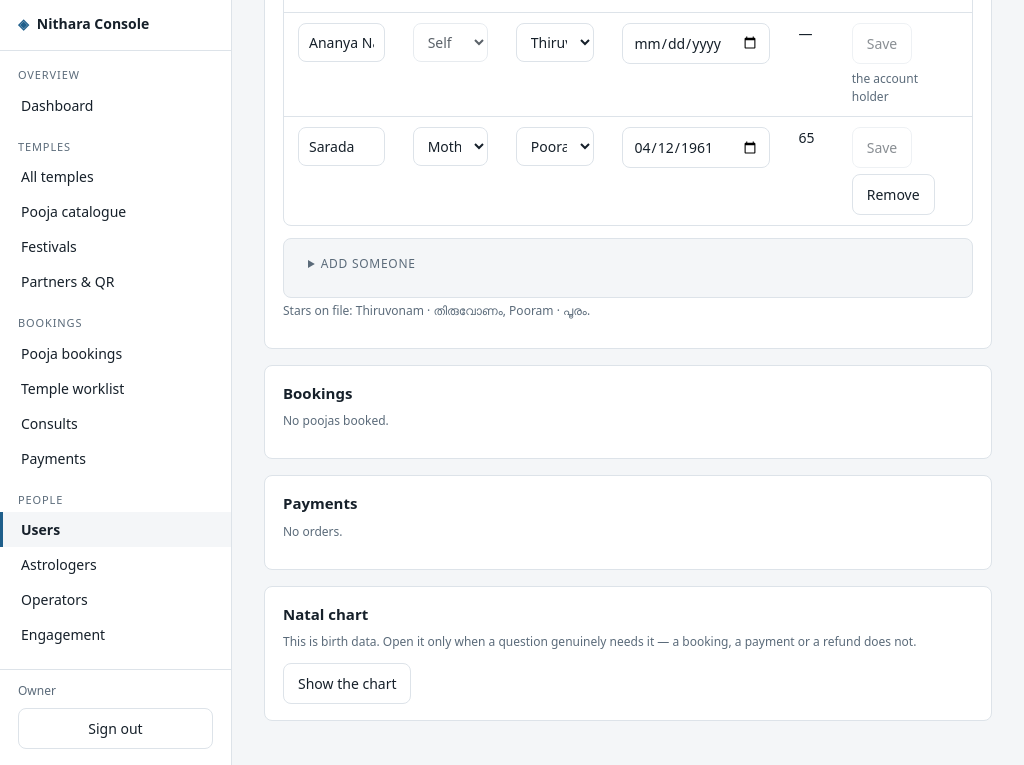
Test case: one devotee › does not fetch the chart until somebody asks for it
(page scrolled)
Click the button "Show the chart" at [347, 684], box [283,663,412,704]
(page scrolled)
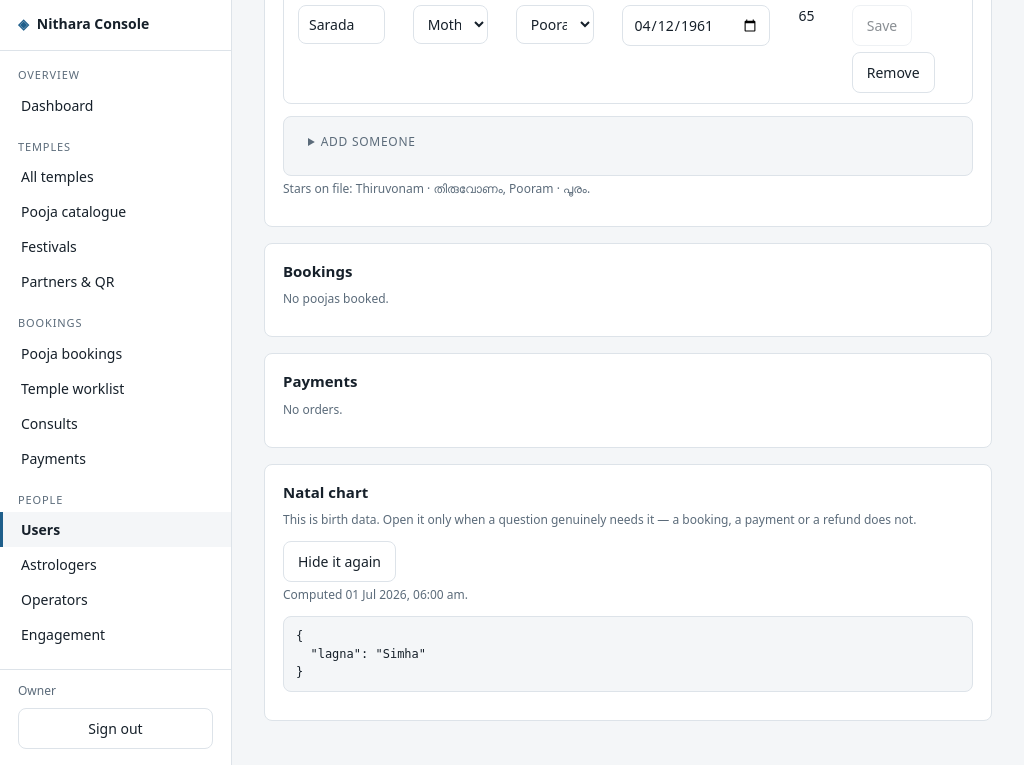
Result: the text "{ \"lagna\": \"Simha\" }" is shown at [283,616,973,692]
